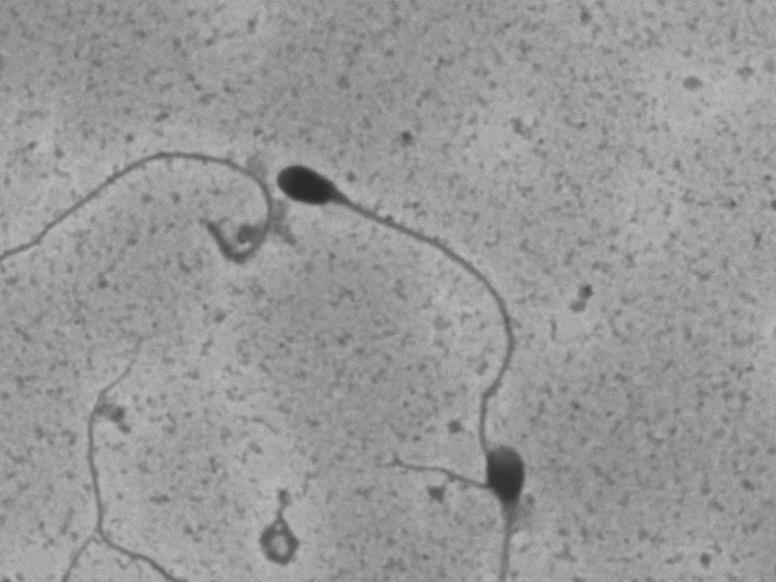Abnormal: (468, 440, 552, 565)
Normal: (259, 150, 528, 493)
